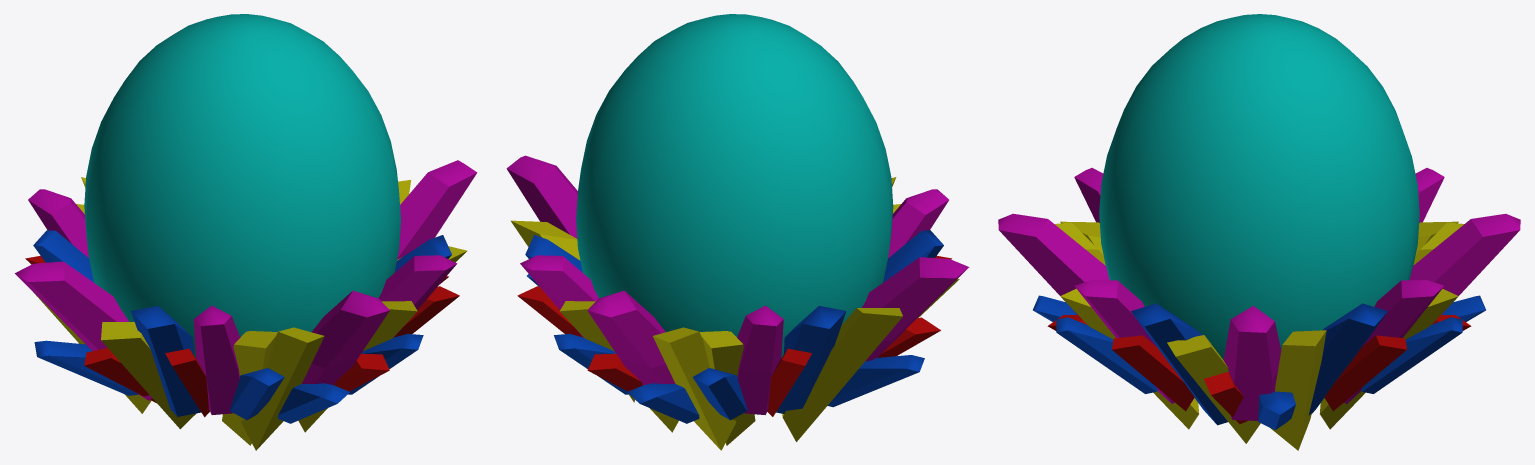
The model's file is huevo.fbx.
3 views of the same model, side by side, from view 1: azimuth 30°, elevation 25°; view 2: azimuth 150°, elevation 25°; view 3: azimuth 270°, elevation 25° (orthographic).
Visible parts, largest first — view 1: egg; view 2: egg; view 3: egg.
Boxes of the visible parts, x1,y1,x2,y2 form: egg: (15,14,477,450); egg: (506,14,969,450); egg: (998,14,1520,450).
Size of the model in its own units: 3.26 by 2.69 by 3.26.
